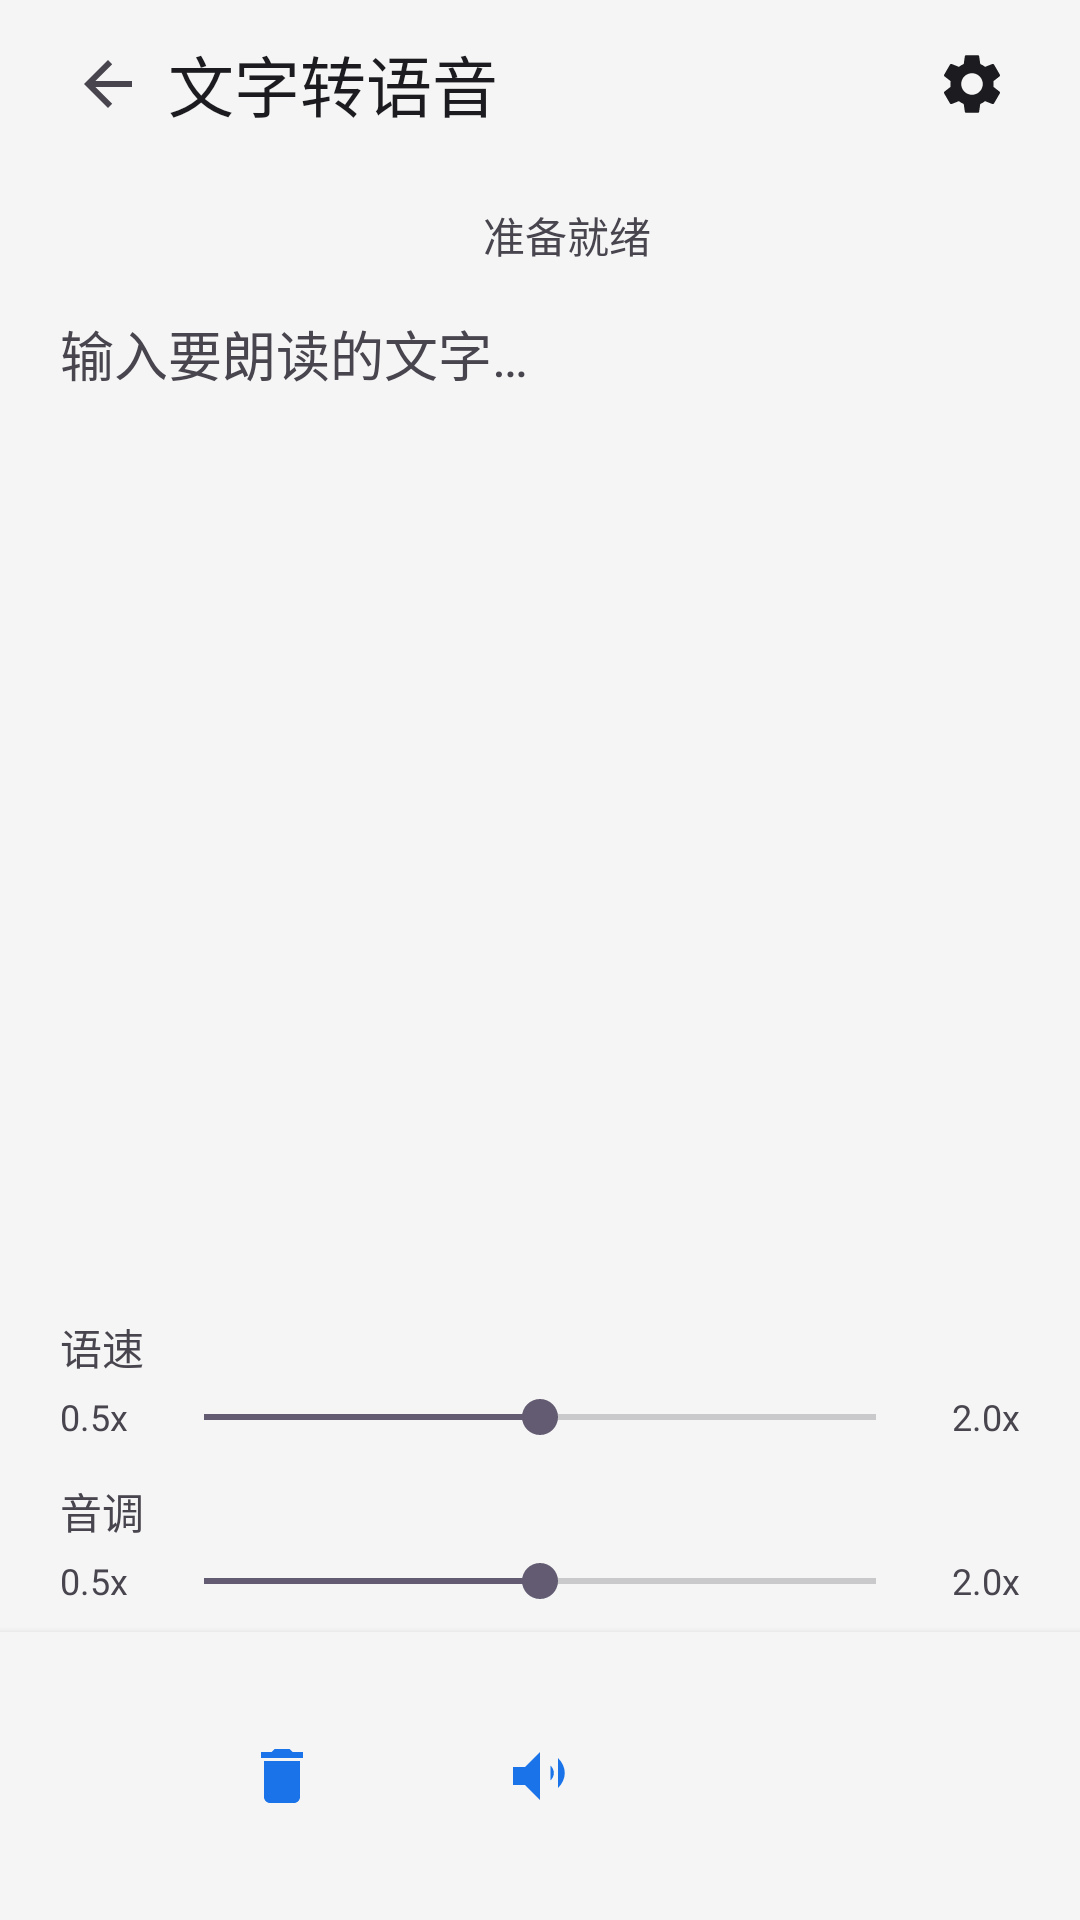

Locate icon controls on the screen. Image size 1080x1920, boxes as [x1,y1,x2,y2].
播放: [513,1752,565,1800]
清除: [261,1749,303,1803]
设置: [944,55,1000,113]
返回: [84,60,132,108]
